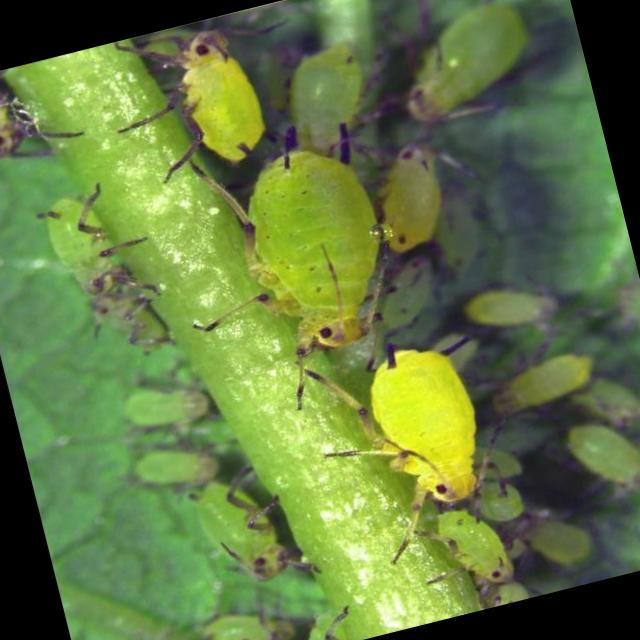aphid: (194, 123, 433, 391), (328, 316, 522, 534), (108, 2, 307, 192), (180, 453, 326, 611), (263, 18, 404, 165), (26, 165, 160, 318), (378, 130, 476, 269), (411, 496, 534, 602), (0, 55, 87, 197)
